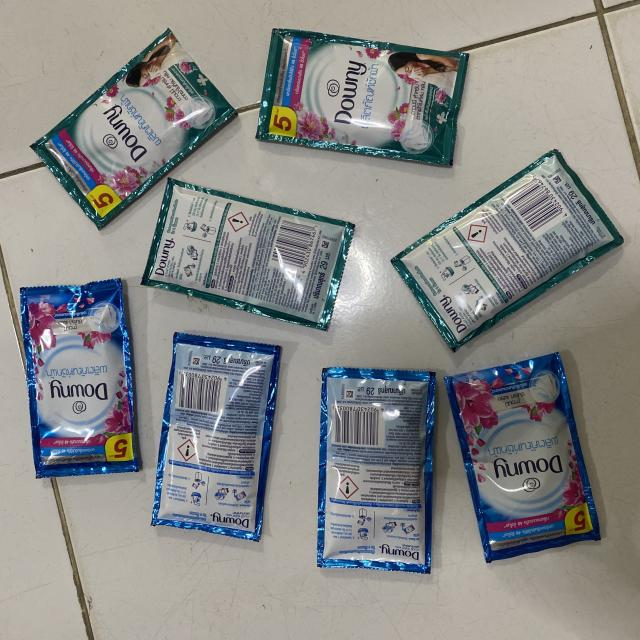plastik: (392, 150, 623, 350), (31, 30, 236, 228), (446, 353, 601, 562), (143, 178, 354, 330), (257, 30, 469, 166), (152, 332, 280, 540), (317, 368, 435, 574), (21, 278, 139, 477)
